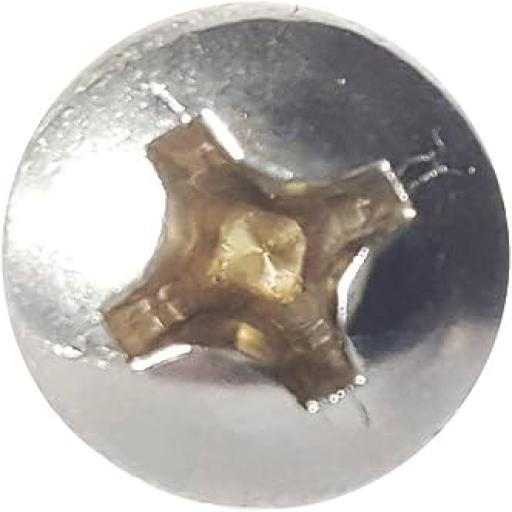Phillips: (6, 7, 506, 507)
